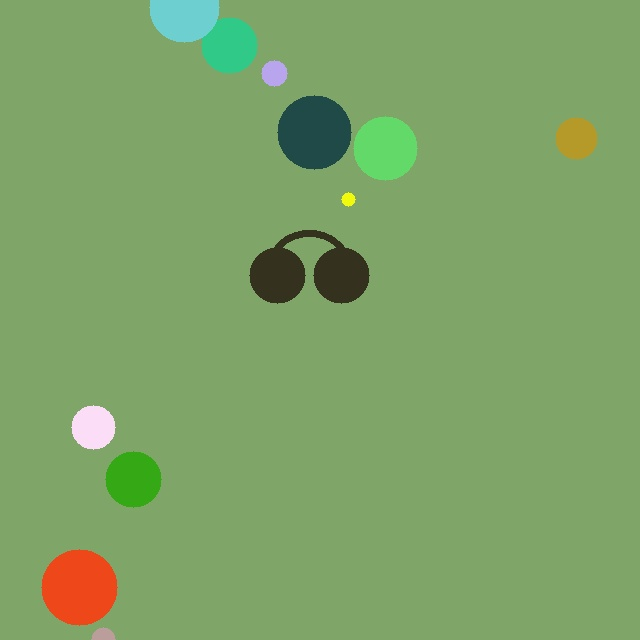over_ear: (245, 223, 373, 307)
